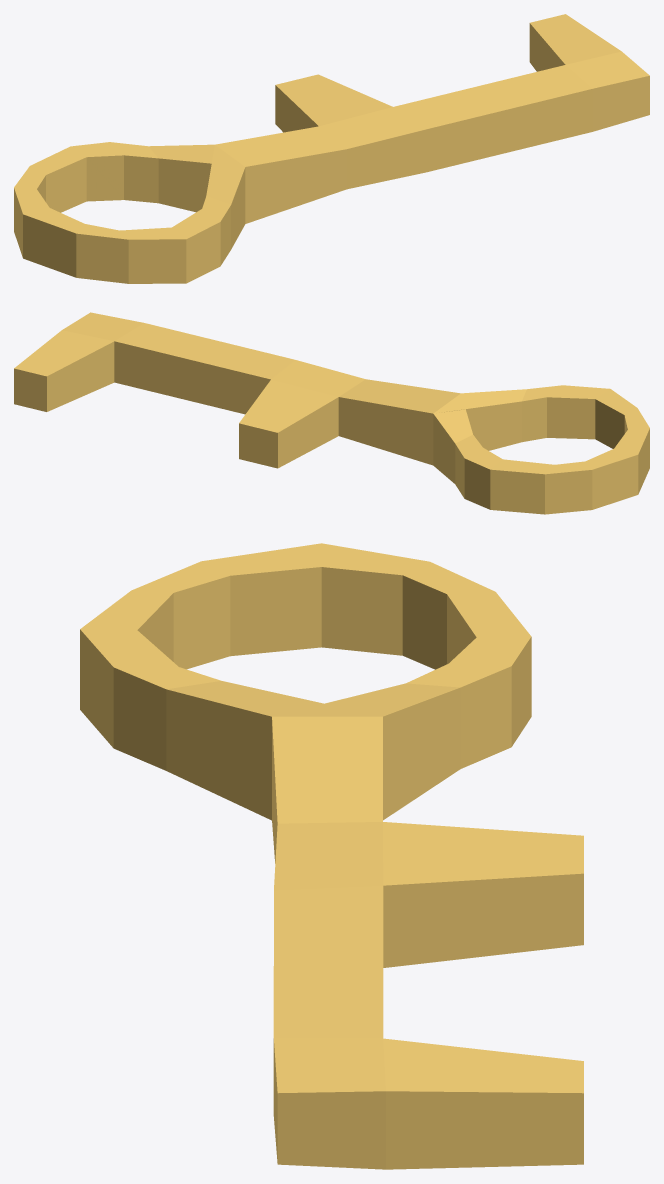
The model's file is GoldKey.glb.
3 views of the same model, one above another, from view 1: azimuth 30°, elevation 25°; view 2: azimuth 150°, elevation 25°; view 3: azimuth 270°, elevation 25° (orthographic). The views are drawn at different scales.
Parts seen in each view (by area): view 1: GoldKey__Cube; view 2: GoldKey__Cube; view 3: GoldKey__Cube.
Part boxes in pixels (bbox=[...]): GoldKey__Cube: bbox=[14, 14, 649, 283]; GoldKey__Cube: bbox=[14, 312, 649, 514]; GoldKey__Cube: bbox=[80, 543, 583, 1169].
Bounding box in the file's own units: 0.85 × 0.0753 × 0.3309.
